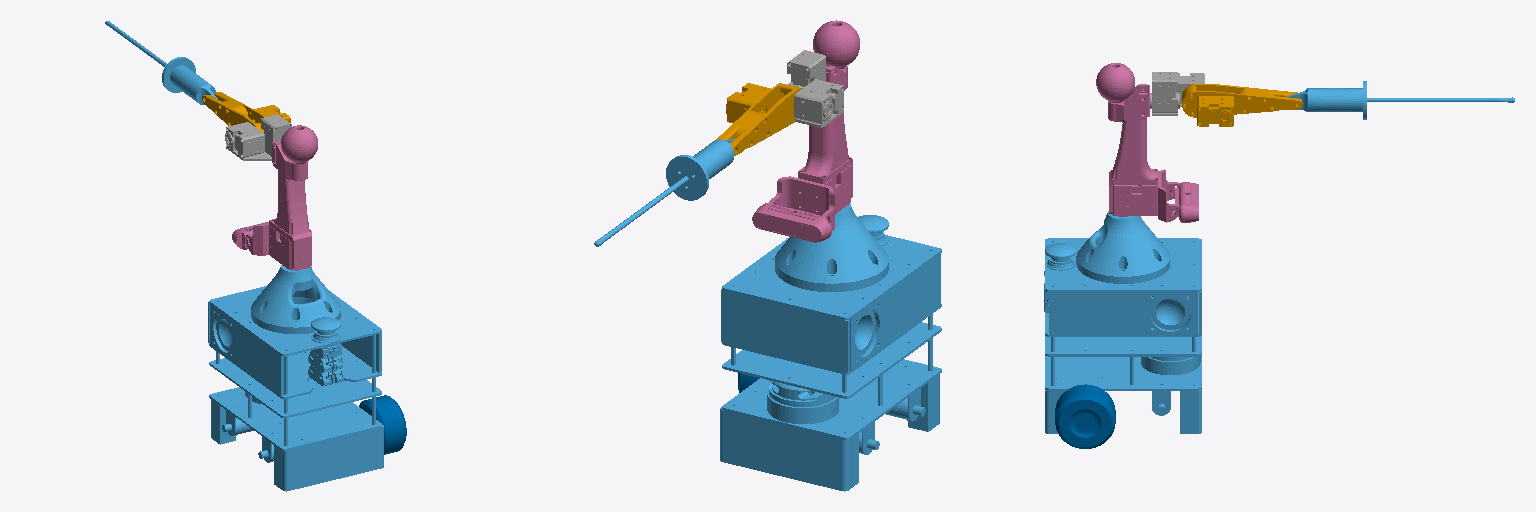
robot.urdf — robot:
<robot name="robot">
   <link name="world"/>
  

  <joint name="base_joint" type="fixed">
    <origin xyz="0 0 0" rpy="0 0 0"/>
    <parent link="world"/>
    <child link="base"/>
  </joint>

   <link name="base">
    <visual>
      <geometry>
        <mesh filename="package://arm_description/mesh/base.stl"/>
      </geometry>
    </visual>
  </link>

  <joint name="LF_wheel_joint" type="continuous">
    <origin xyz="83.0e-3 48.50e-3 -25e-3" rpy="0 0 0"/>
    <axis xyz="1 0 0"/>
    <parent link="base"/>
    <child link="LF_wheel"/>
  </joint>

  <link name="LF_wheel">
    <visual>
      <origin xyz="0 0 0" rpy="0 1.57 0"/>
      <geometry>
        <mesh filename="package://arm_description/mesh/LF_wheel.stl"/>
      </geometry>
    </visual>
  </link>

  <joint name="RF_wheel_joint" type="continuous">
    <origin xyz="-83.0e-3 48.50e-3 -25e-3" rpy="0 0 0"/>
    <axis xyz="1 0 0"/>
    <parent link="base"/>
    <child link="RF_wheel"/>
  </joint>

  <link name="RF_wheel">
    <visual>
      <origin xyz="0 0 0" rpy="0 -1.57 0"/>
      <geometry>
        <mesh filename="package://arm_description/mesh/RF_wheel.stl"/>
      </geometry>
    </visual>
  </link>

<joint name="LR_wheel_joint" type="continuous">
    <origin xyz="83.0e-3 -48.50e-3 -25e-3" rpy="0 0 0"/>
    <axis xyz="1 0 0"/>
    <parent link="base"/>
    <child link="LR_wheel"/>
  </joint>

  <link name="LR_wheel">
    <visual>
      <origin xyz="0 0 0" rpy="0 1.57 0"/>
      <geometry>
        <mesh filename="package://arm_description/mesh/LR_wheel.stl"/>
      </geometry>
    </visual>
  </link>

  <joint name="RR_wheel_joint" type="continuous">
    <origin xyz="-83.0e-3 -48.50e-3 -25e-3" rpy="0 0 0"/>
    <axis xyz="1 0 0"/>
    <parent link="base"/>
    <child link="RR_wheel"/>
  </joint>

  <link name="RR_wheel">
    <visual>
      <origin xyz="0 0 0" rpy="0 -1.57 0"/>
      <geometry>
        <mesh filename="package://arm_description/mesh/RR_wheel.stl"/>
      </geometry>
    </visual>
  </link>

 <joint name="link1_joint" type="revolute">
    <origin xyz="0 0 208.95e-3" rpy="0 0 0"/>
    <axis xyz="0 0 1"/>
    <limit upper="6.28" lower="-6.28" effort="1000" velocity="1000.00"/>
    <parent link="base"/>
    <child link="link1"/>
  </joint>

  <link name="link1">
    <visual>
      <geometry>
        <mesh filename="package://arm_description/mesh/link1.stl"/>
      </geometry>
    </visual>
  </link>

<joint name="link2_joint" type="revolute">
    <origin xyz="0 29.60e-3 162.686e-3" rpy="0 0 0"/>
    <limit upper="6.28" lower="-6.28" effort="1000" velocity="1000.00"/>
    <axis xyz="0 1 0"/>
    <parent link="link1"/>
    <child link="link2"/>
  </joint>

  <link name="link2">
    <visual>
     <origin xyz="0 0 0" rpy="-1.57 0 0"/>
      <geometry>
        <mesh filename="package://arm_description/mesh/link2.stl"/>
      </geometry>
    </visual>
  </link>

  <joint name="link3_joint" type="revolute">

    <origin xyz="0 63.15e-3 0" rpy="0 0 0"/>
    <limit upper="6.28" lower="-6.28" effort="1000" velocity="1000.00"/>
    <axis xyz="1 0 0"/>
    <parent link="link2"/>
    <child link="link3"/>
  </joint>

  <link name="link3">
    <visual>
      <origin xyz="-12.5e-3 0 0" rpy="0 1.57 0"/>
      <geometry>
        <mesh filename="package://arm_description/mesh/link3.stl"/>
      </geometry>
    </visual>
  </link>

  <joint name="link4_joint" type="revolute">
    <origin xyz="0 130.50e-3 0" rpy="0 0 0"/>
    <limit upper="6.28" lower="-6.28" effort="1000" velocity="1000.00"/>
    <axis xyz="1 0 0"/>
    <parent link="link3"/>
    <child link="link4"/>
  </joint>

  <link name="link4">
    <visual>
       <origin xyz="0 0 0" rpy="0 -1.57 0"/>
      <geometry>
        <mesh filename="package://arm_description/mesh/link4.stl"/>
      </geometry>
    </visual>
  </link>
</robot>

--- Facts derived from the render (not from the file) ---
Views: 3 orthographic renders of the robot side by side, from view 1: azimuth 30°, elevation 25°; view 2: azimuth 150°, elevation 25°; view 3: azimuth 270°, elevation 25°.
Model robot with 10 links and 9 joints (4 revolute, 4 continuous, 1 fixed), rooted at world, posed every joint at zero.
Visible links, largest first — view 1: base, link1, link2, link4, link3, LR_wheel; view 2: base, link1, link3, link2, link4; view 3: base, link1, link3, LR_wheel, link4, link2.
Boxes of the visible links, bbox=[...] form: base: bbox=[208, 265, 383, 491]; link1: bbox=[232, 125, 317, 270]; link2: bbox=[225, 114, 291, 160]; link4: bbox=[105, 21, 217, 104]; link3: bbox=[202, 92, 290, 132]; LR_wheel: bbox=[359, 395, 406, 454]; base: bbox=[720, 204, 941, 491]; link1: bbox=[752, 20, 859, 242]; link3: bbox=[716, 83, 802, 155]; link2: bbox=[787, 50, 843, 127]; link4: bbox=[594, 138, 734, 246]; base: bbox=[1044, 211, 1201, 433]; link1: bbox=[1096, 63, 1198, 222]; link3: bbox=[1182, 84, 1302, 126]; LR_wheel: bbox=[1055, 385, 1115, 448]; link4: bbox=[1287, 81, 1514, 119]; link2: bbox=[1150, 72, 1204, 115].
Bounding box of the posed robot: 0.206 × 0.601 × 0.4851 m (x, y, z).
Meshes: 9 distinct files referenced, 6 mesh visuals loaded (6 binary STL); not drawn: 3 (reference not matched to a file when rendering).